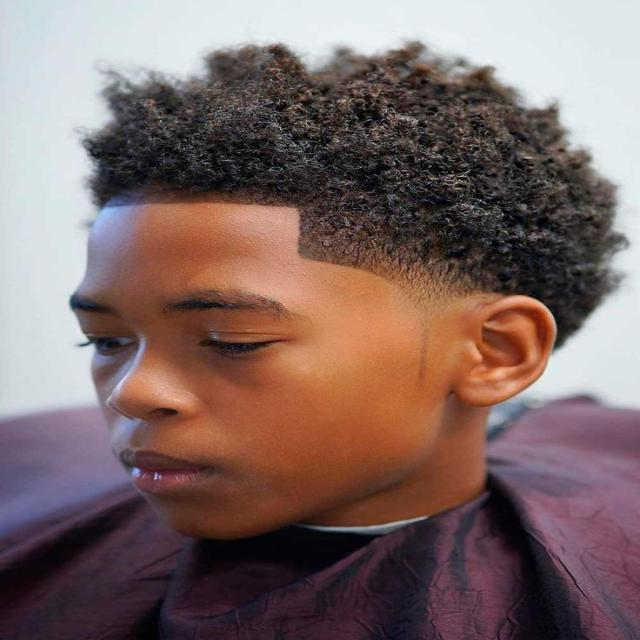Nonhelmet: (44, 24, 640, 558)
